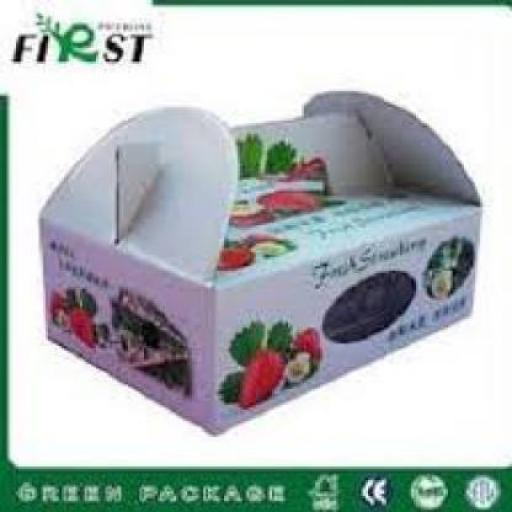cardboard: (39, 89, 480, 432)
